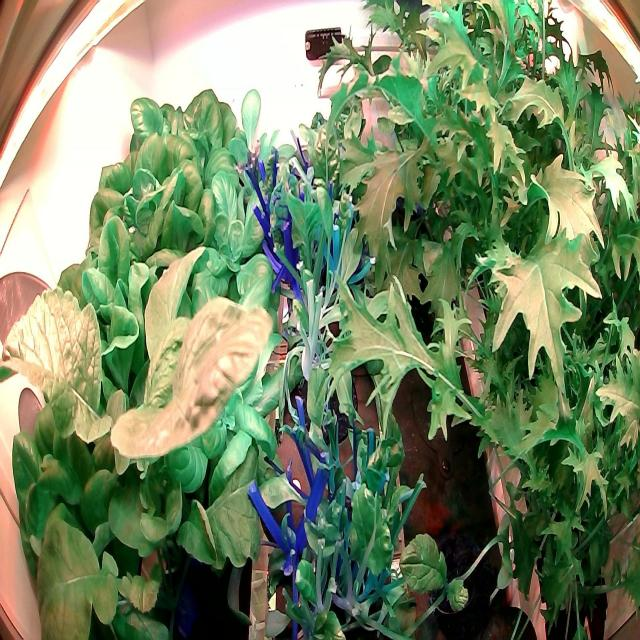Ready: (12, 380, 176, 640), (23, 192, 182, 457), (88, 75, 237, 324)
young: (190, 170, 278, 306), (221, 78, 295, 186)
